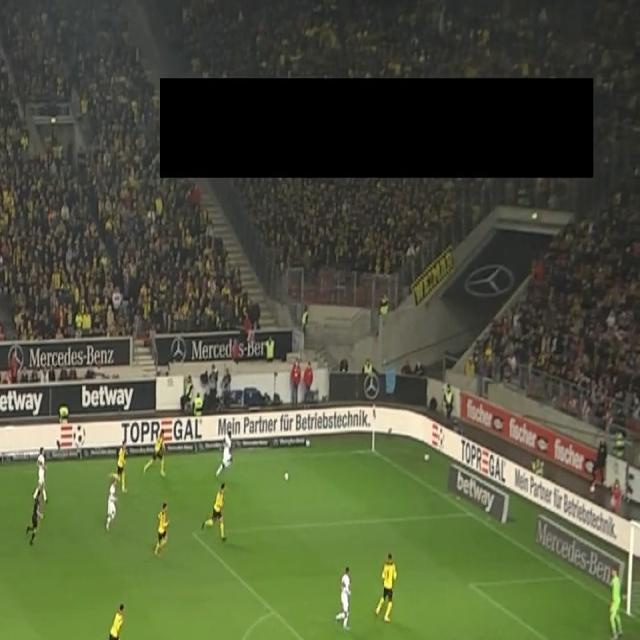ball: (283, 471, 290, 484)
